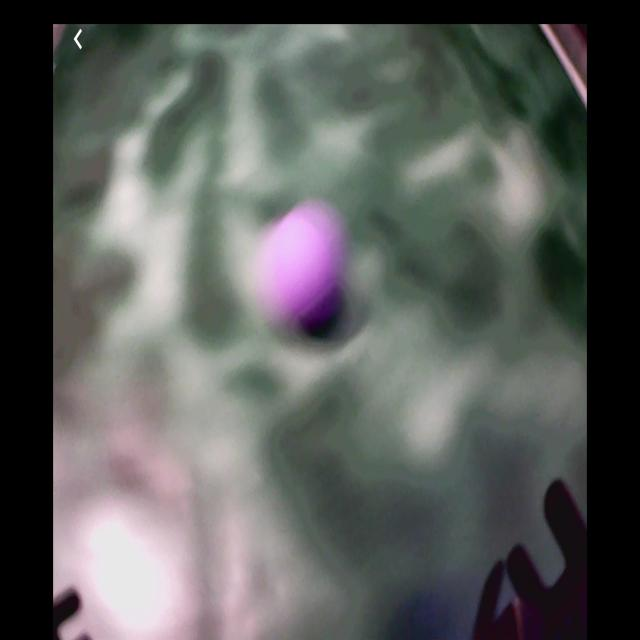ball: (265, 201, 347, 339)
